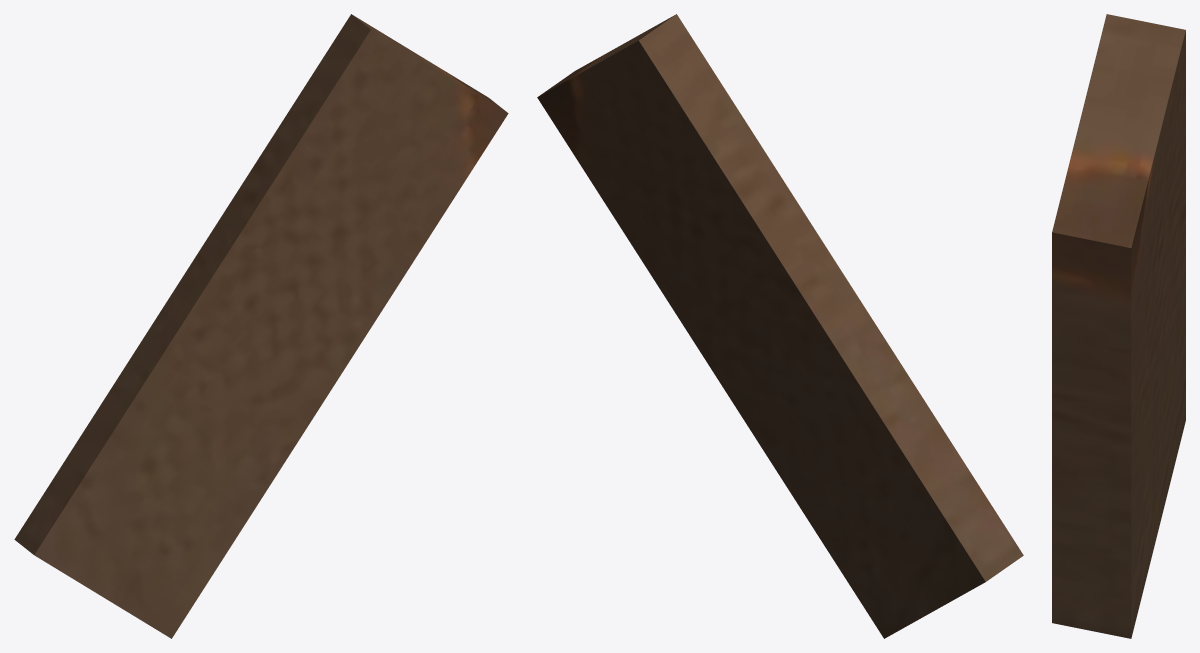
The model's file is fan_right__blade_5.glb.
3 views of the same model, side by side, from view 1: azimuth 30°, elevation 25°; view 2: azimuth 150°, elevation 25°; view 3: azimuth 270°, elevation 25° (orthographic). The views are drawn at different scales.
Parts seen in each view (by area): view 1: geometry_0; view 2: geometry_0; view 3: geometry_0.
Boxes of the visible parts, left/top/right/bottom form: geometry_0: left=14, top=14, right=508, bottom=638; geometry_0: left=537, top=14, right=1023, bottom=638; geometry_0: left=1052, top=14, right=1185, bottom=638.
Size of the model in its own units: 0.024 by 0.0271 by 0.00428.
1 material, 1 textured.
